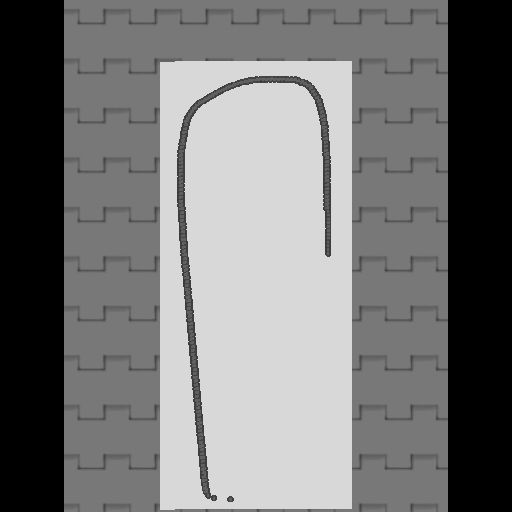Defect: (286, 254, 332, 492)
